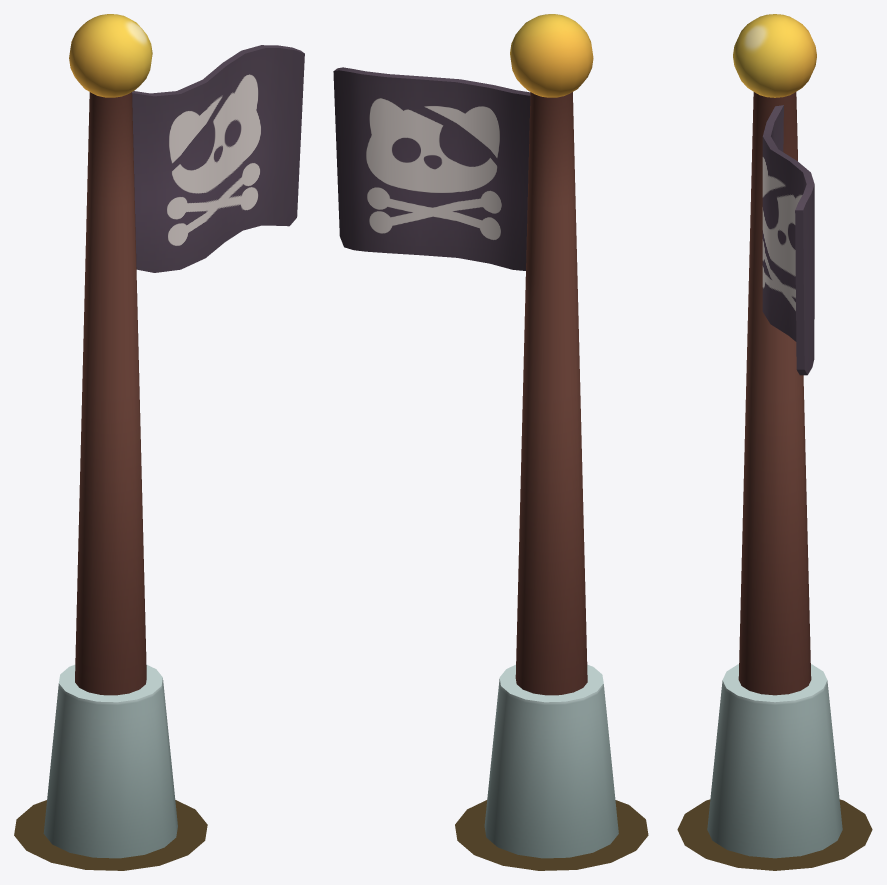
The model's file is Mu_Flag.fbx.
3 renders of one model, left to right at view 1: azimuth 30°, elevation 25°; view 2: azimuth 150°, elevation 25°; view 3: azimuth 270°, elevation 25°, orthographic.
Visible parts, largest first — view 1: Mu_Flag_a, Mu_Flag_b, Mu_Flag_shadow; view 2: Mu_Flag_a, Mu_Flag_b, Mu_Flag_shadow; view 3: Mu_Flag_a, Mu_Flag_b, Mu_Flag_shadow.
Part boxes in pixels (left/top/right/bottom): Mu_Flag_a: left=43, top=14, right=177, bottom=858; Mu_Flag_b: left=132, top=45, right=304, bottom=272; Mu_Flag_shadow: left=14, top=800, right=207, bottom=870; Mu_Flag_a: left=484, top=14, right=618, bottom=858; Mu_Flag_b: left=333, top=67, right=530, bottom=270; Mu_Flag_shadow: left=455, top=800, right=648, bottom=870; Mu_Flag_a: left=707, top=14, right=842, bottom=858; Mu_Flag_b: left=762, top=105, right=814, bottom=375; Mu_Flag_shadow: left=677, top=799, right=872, bottom=870.
Bounding box in the file's own units: 177 × 477 × 104.
Materials: 2 (1 with a texture image).
